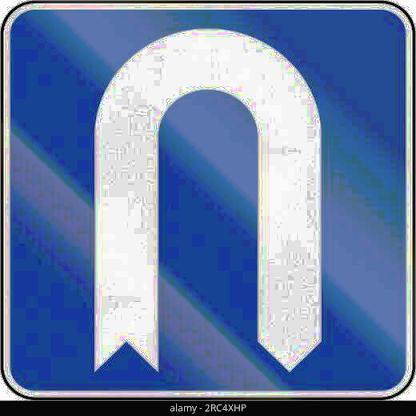U-turn: (13, 4, 408, 397)
